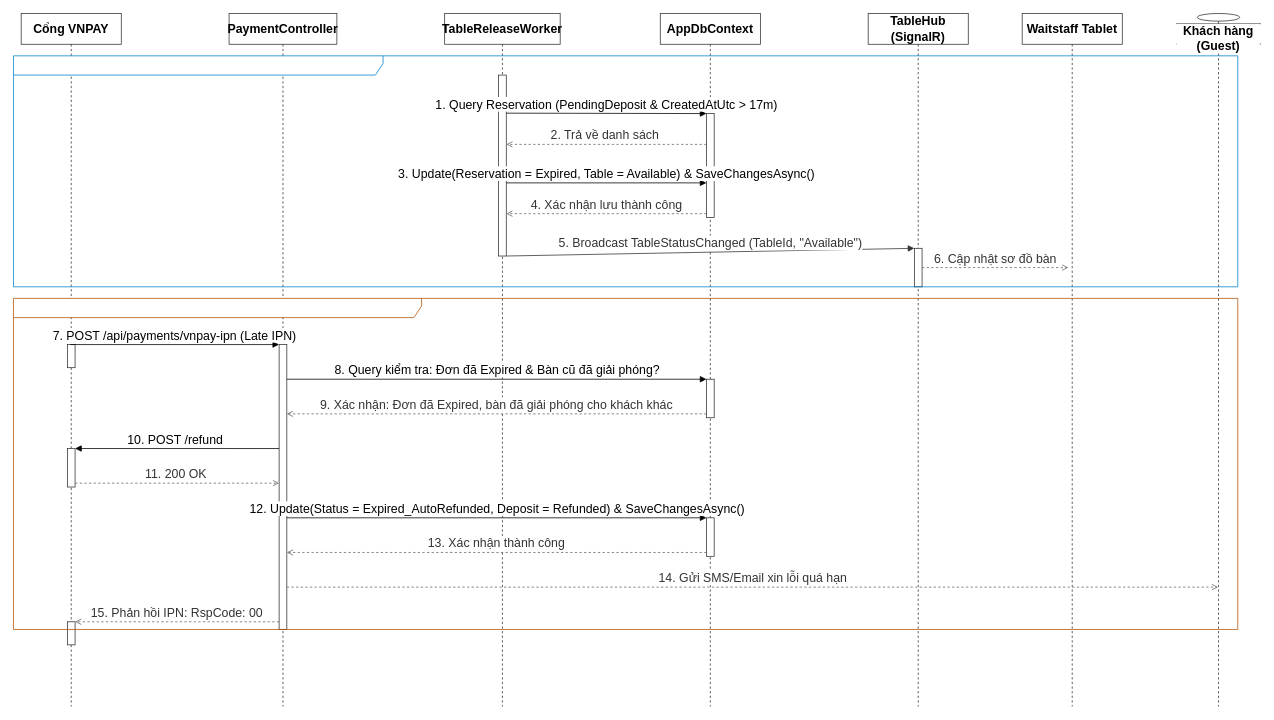
Image size: 1274x720. Some labels were removed from this diagram. The centre of each missing label's shape, as x and y in pixels:
"alt: Xử lý ngoại lệ Late IPN (> 17 phút)" belongs at point 625,463.
"alt: Định kỳ quét giải phóng bàn (Hangfire Worker)" belongs at point 625,171.
